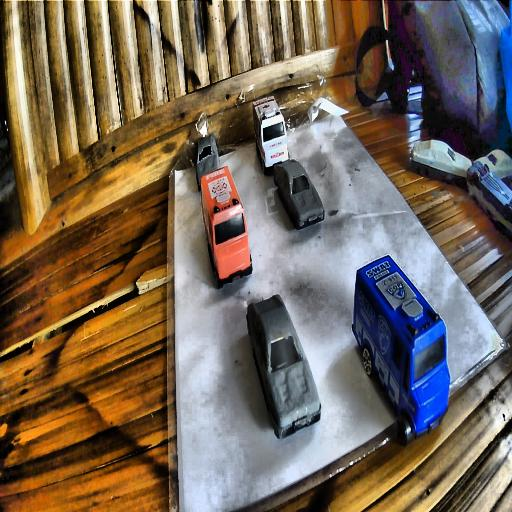ambulance: (251, 95, 287, 176)
fire_truck: (200, 158, 254, 287)
normal_car: (246, 294, 319, 438), (272, 156, 325, 230), (194, 134, 220, 191)
police car: (352, 255, 451, 446)
